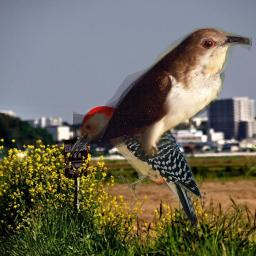Cuckoo: (73, 27, 252, 158)
Woodpecker: (70, 105, 205, 233)
